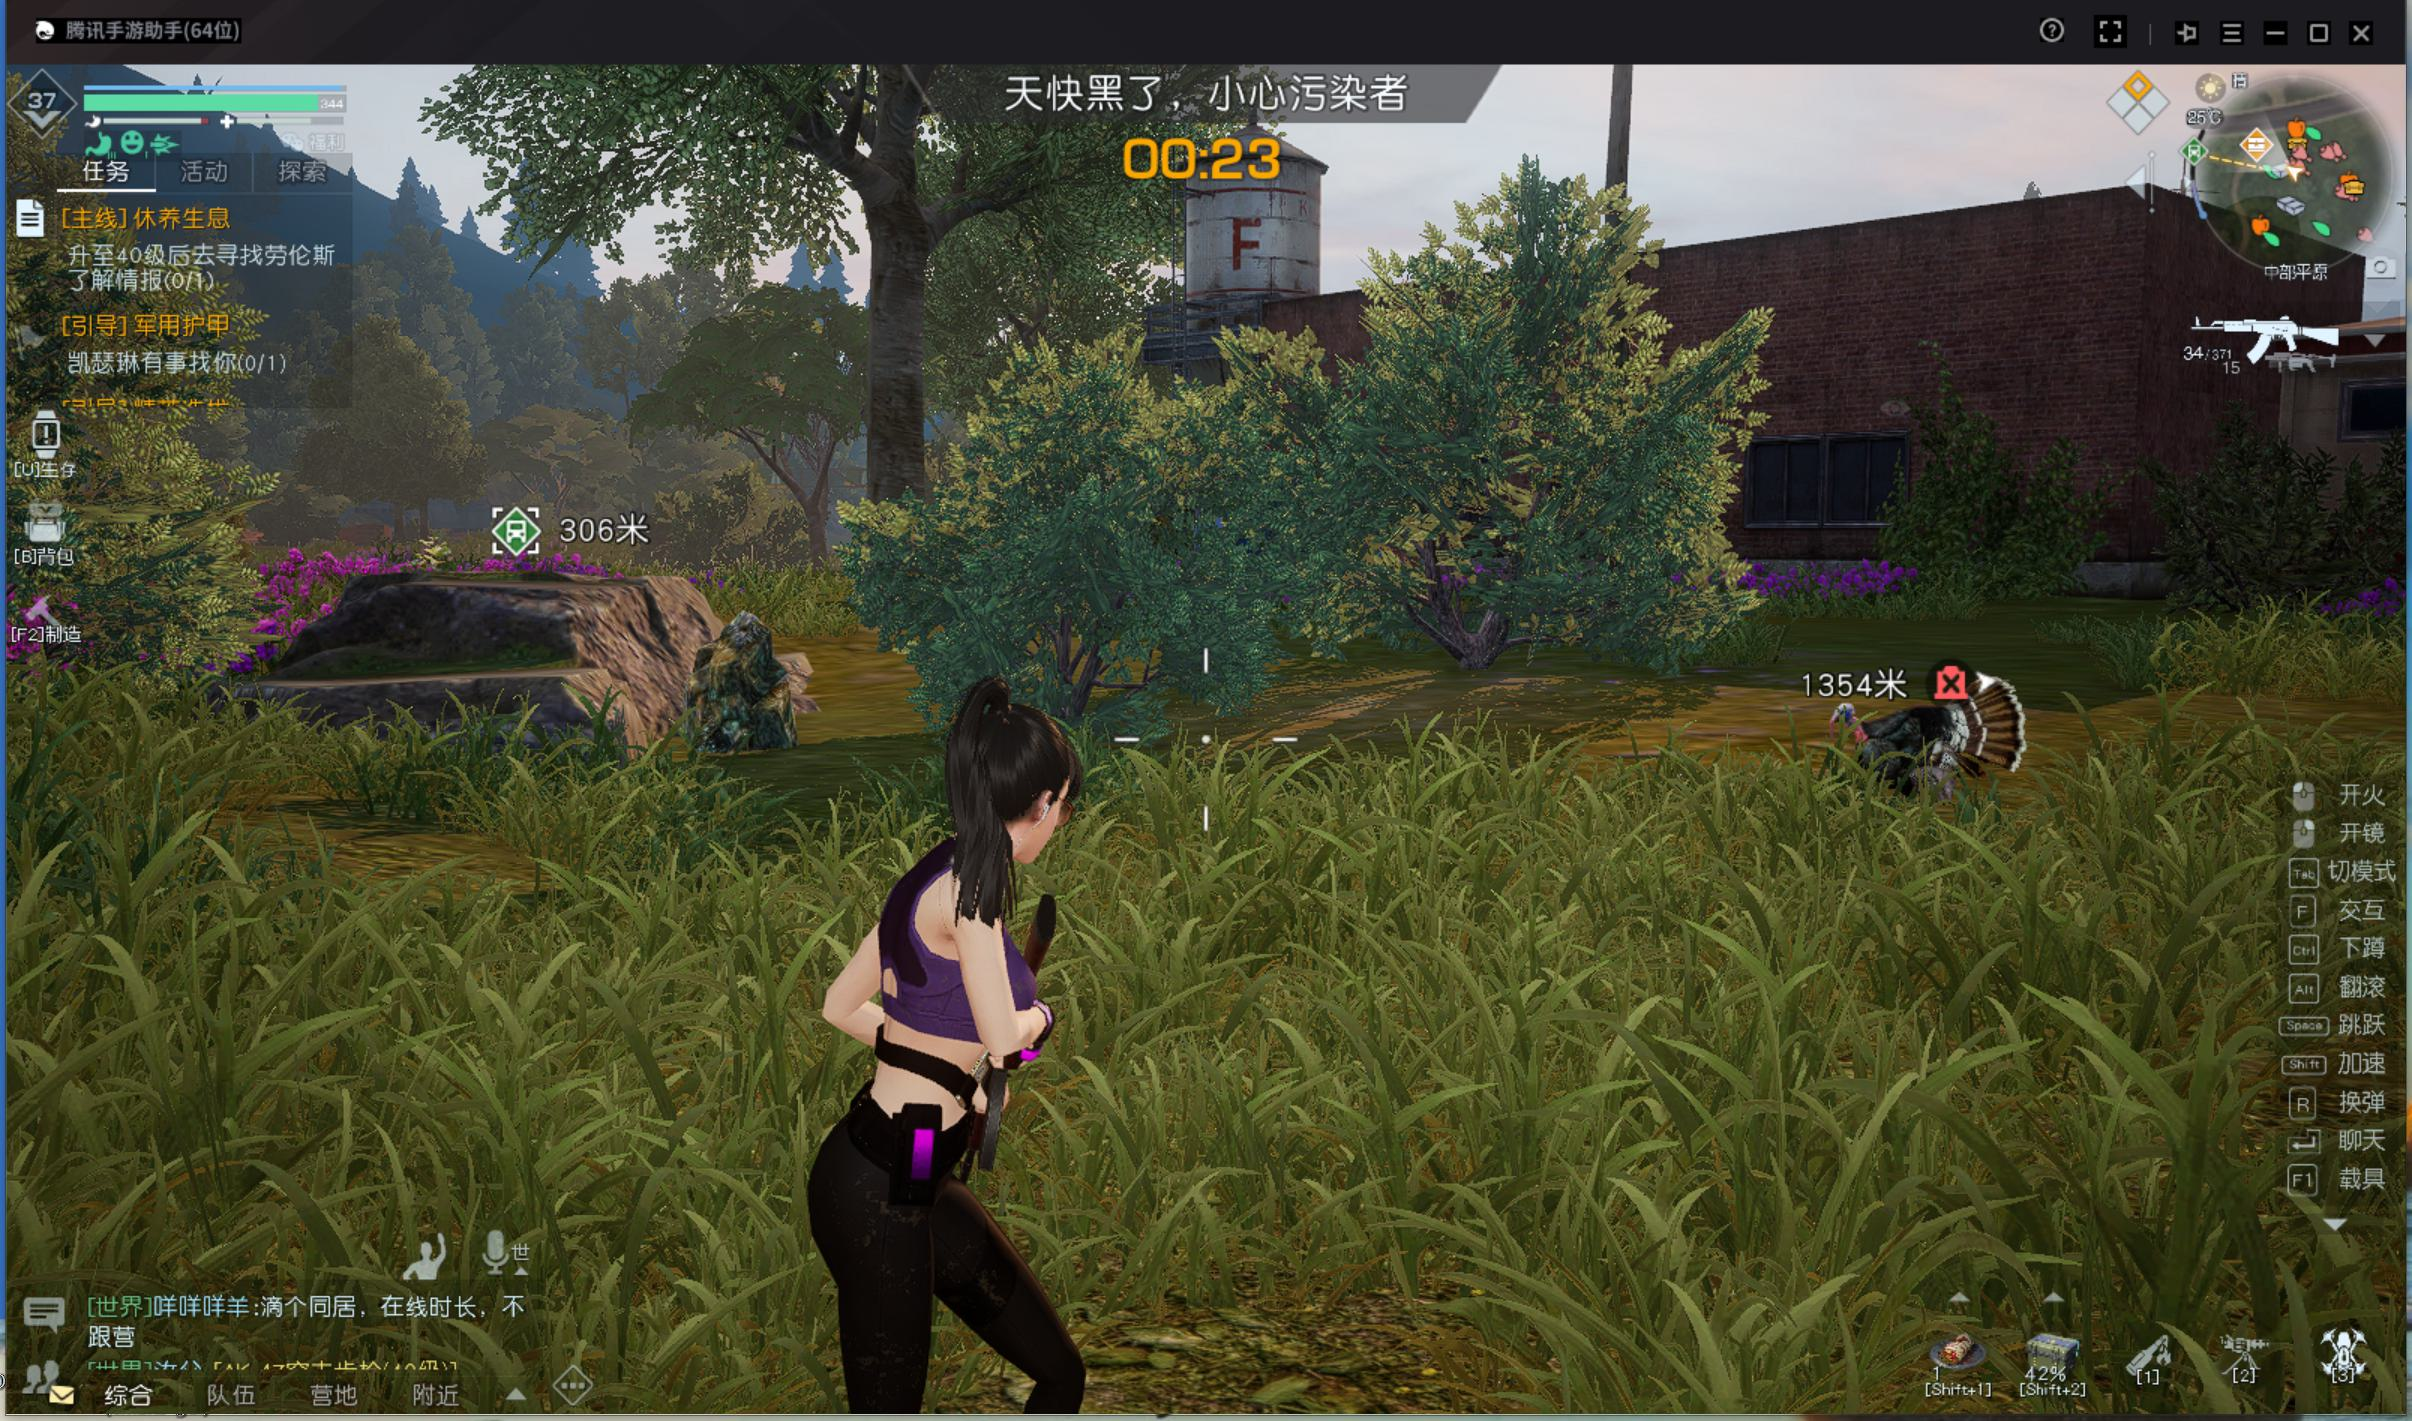stone: (677, 602, 798, 771)
tree: (849, 225, 947, 617), (795, 480, 841, 606)
